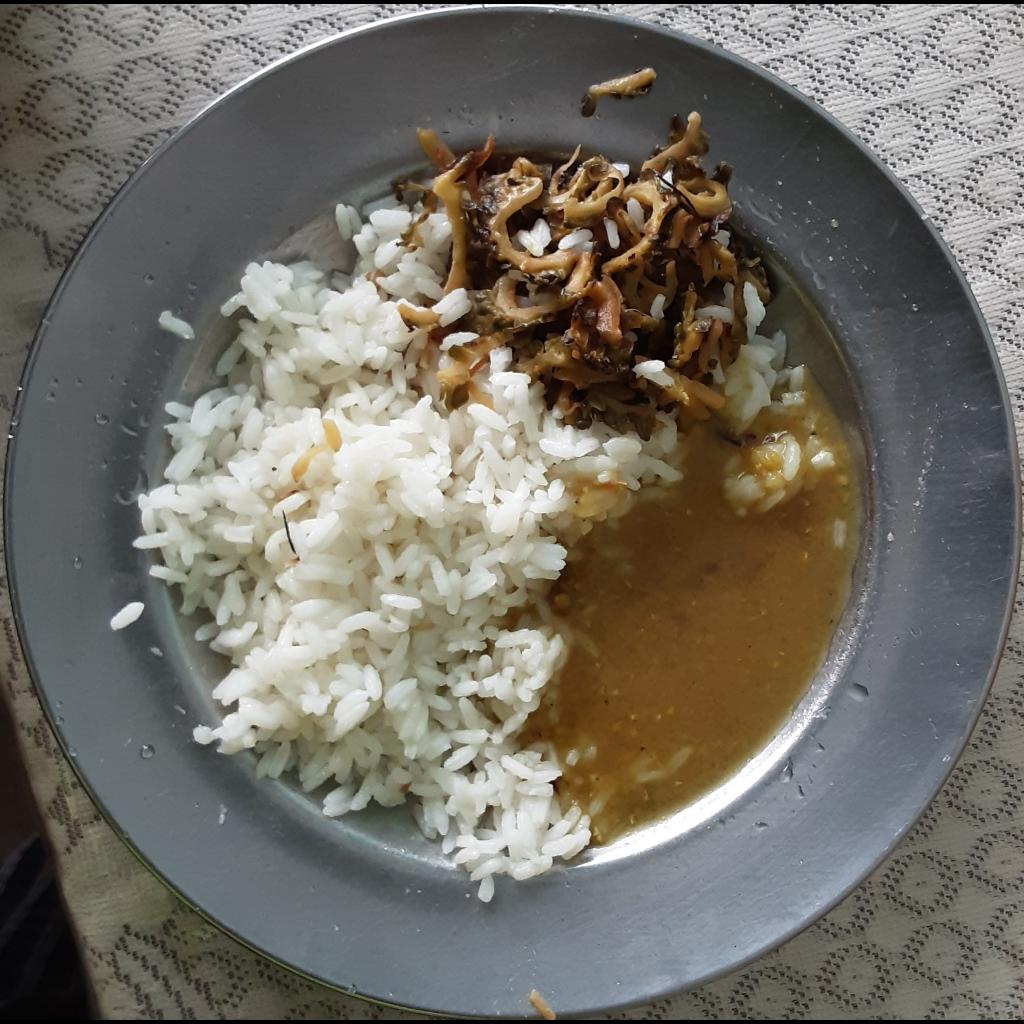daal: (538, 361, 865, 850)
korola-vaji: (393, 98, 780, 430), (583, 66, 651, 112)
rice: (136, 203, 686, 906), (105, 602, 145, 629)
